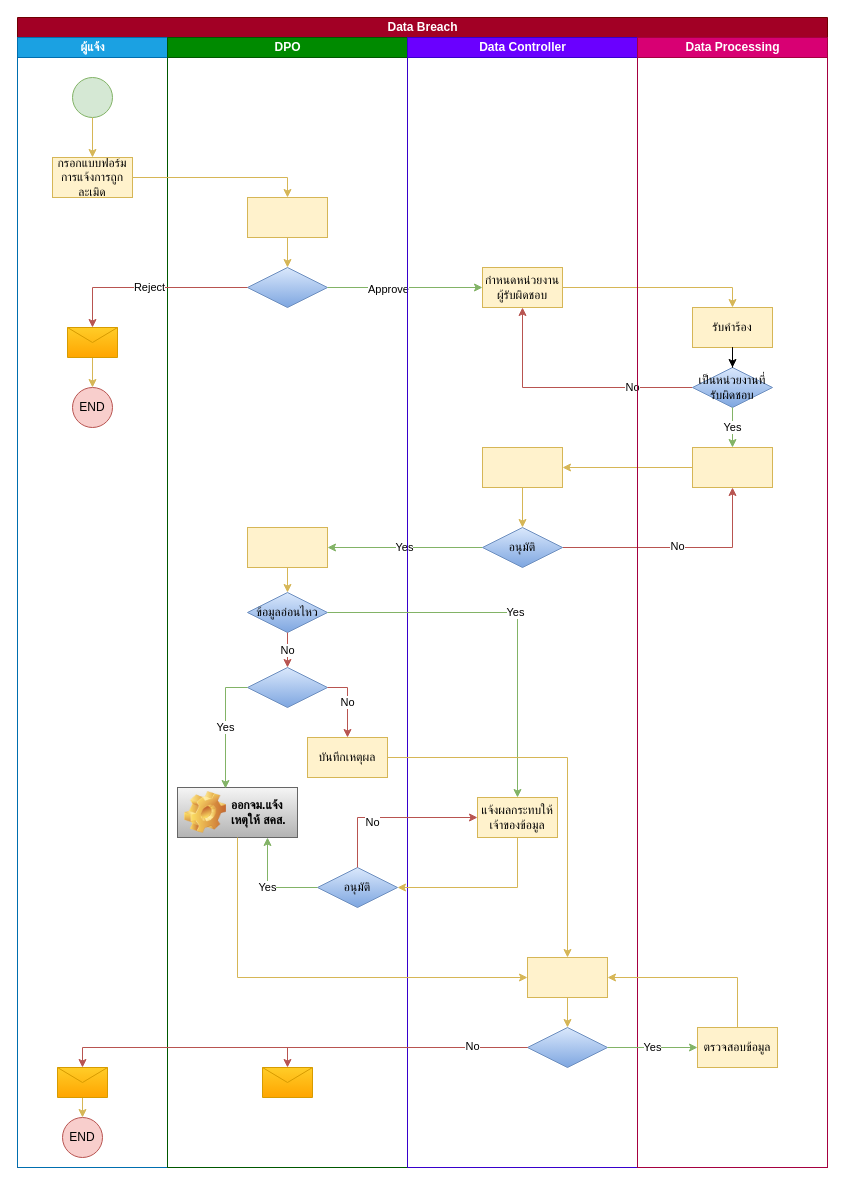
The diagram is 845 pixels wide and 1185 high, and some of its shapes have lost their labels. The shapes that lost their labels are listed below. From the top down, each one's centre as x and y in pixels, then its label:
At (92,97): "START".
At (287,217): "รับคำร้อง และพิจารณา".
At (287,287): "พิจารณา".
At (522,467): "พิจารณาบันทึก".
At (732,467): "บันทึกเหตุการณ์".
At (287,547): "ตรวจสอบข้อมูล และพิจารณาข้อมูลอ่อนไหว".
At (287,687): "แจ้ง สคส.".
At (567,977): "ปิดงาน".
At (567,1047): "สถานะยับยั้ง".
